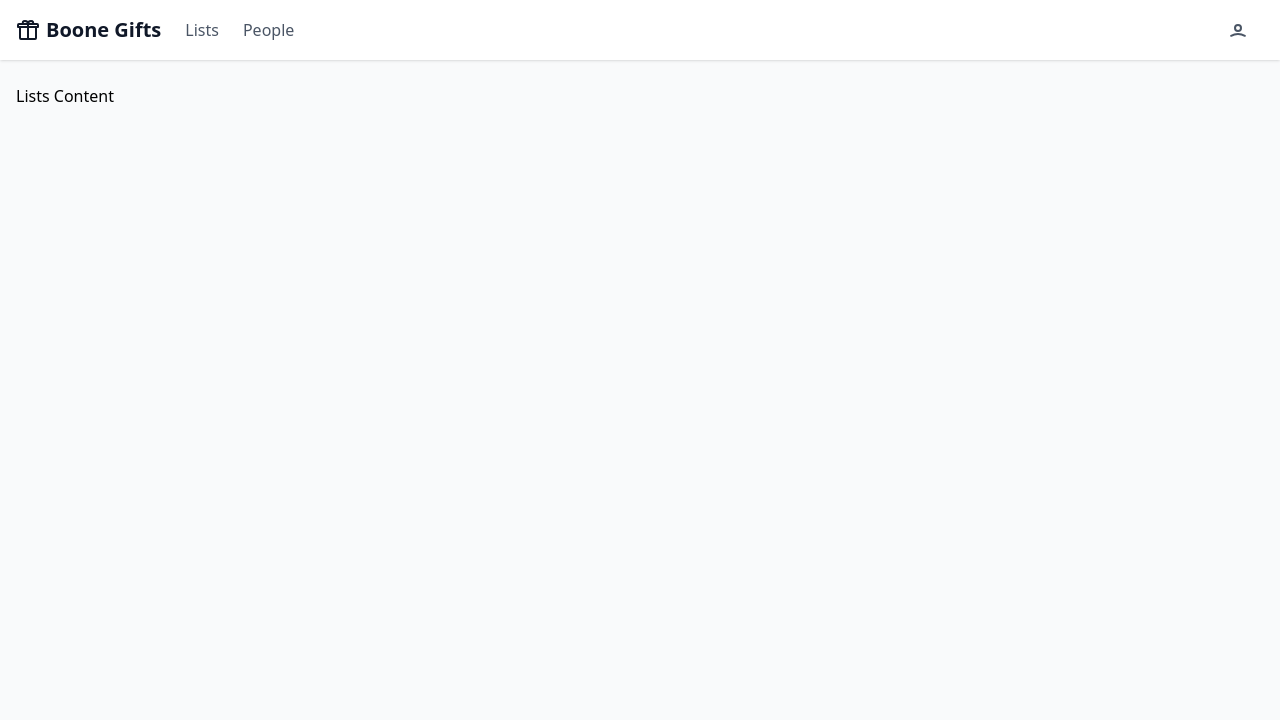
it: Layout › closes dropdown when clicking outside
What coordinates should you click on to do the following:
click the button named "Account menu"
I would click on:
 (1242, 30)
Its box is [1220, 12, 1264, 48].
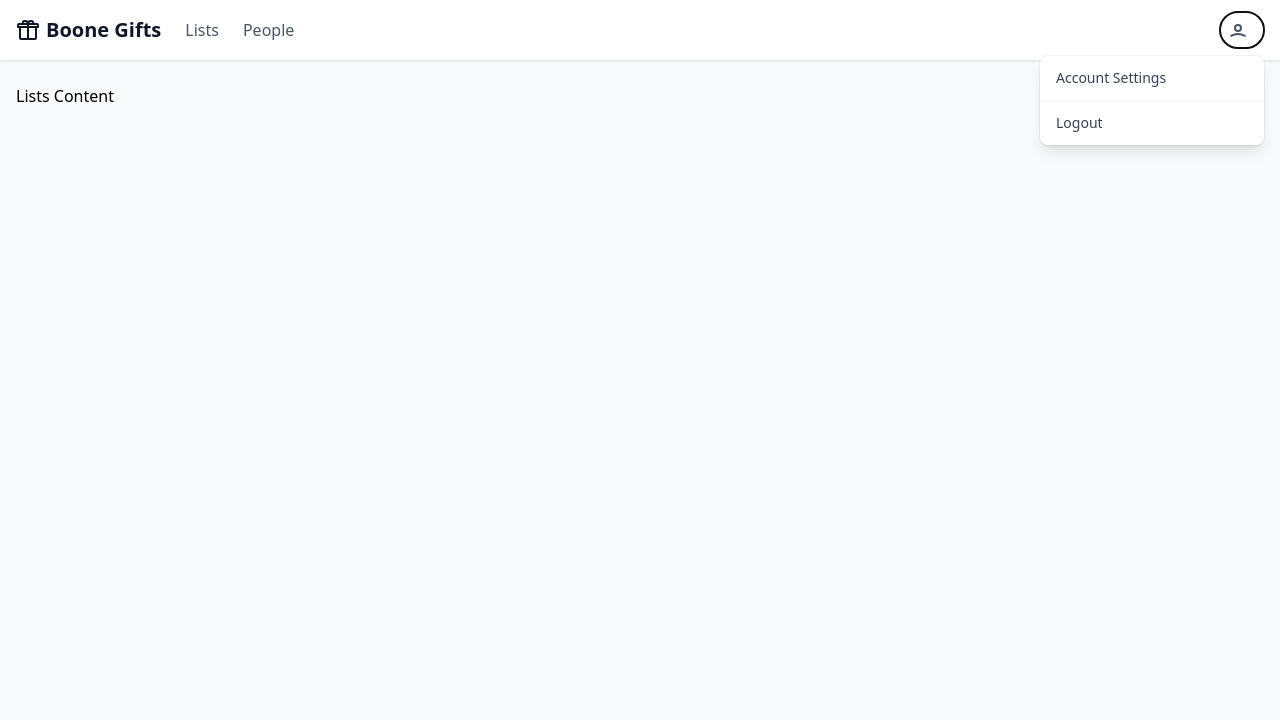
Expected: the link "Account Settings" is shown, [1056, 68, 1166, 87]
What coordinates should you click on to do the following:
click the element that starts with "Boone Gifts"
I would click on:
 (640, 360)
Its box is [0, 0, 1279, 719].
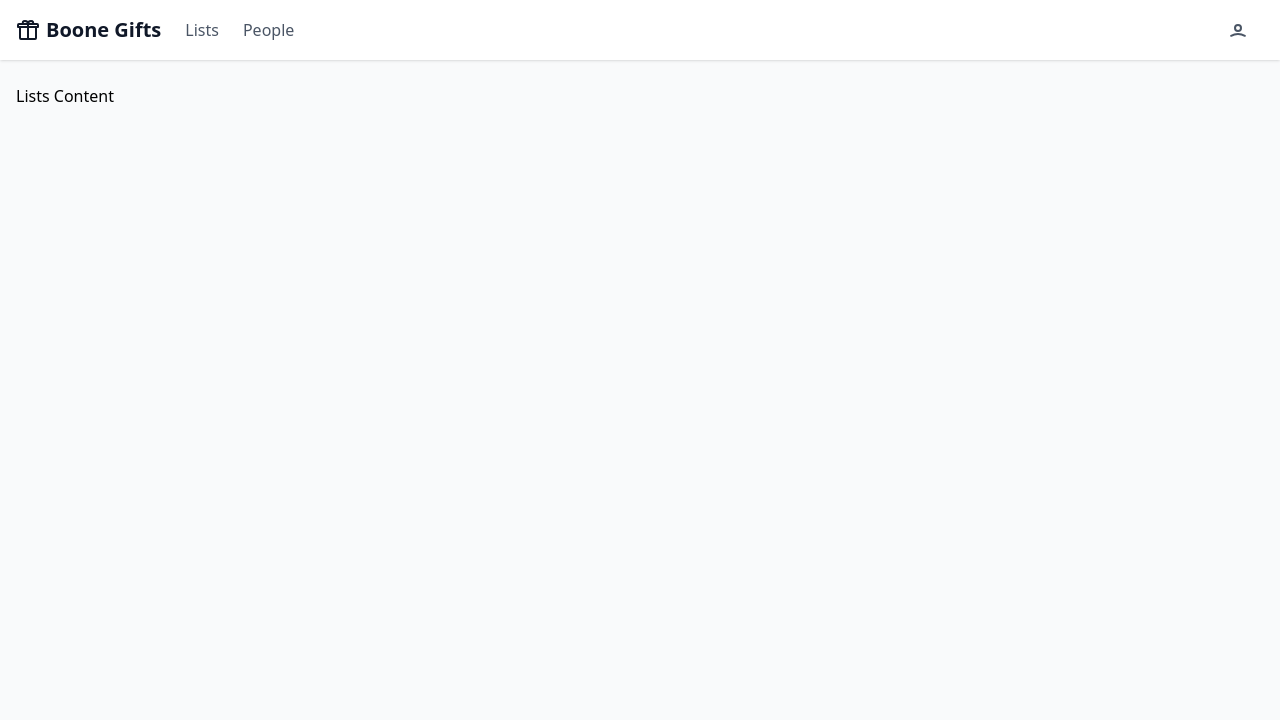
Expected: the link "Account Settings" is gone
